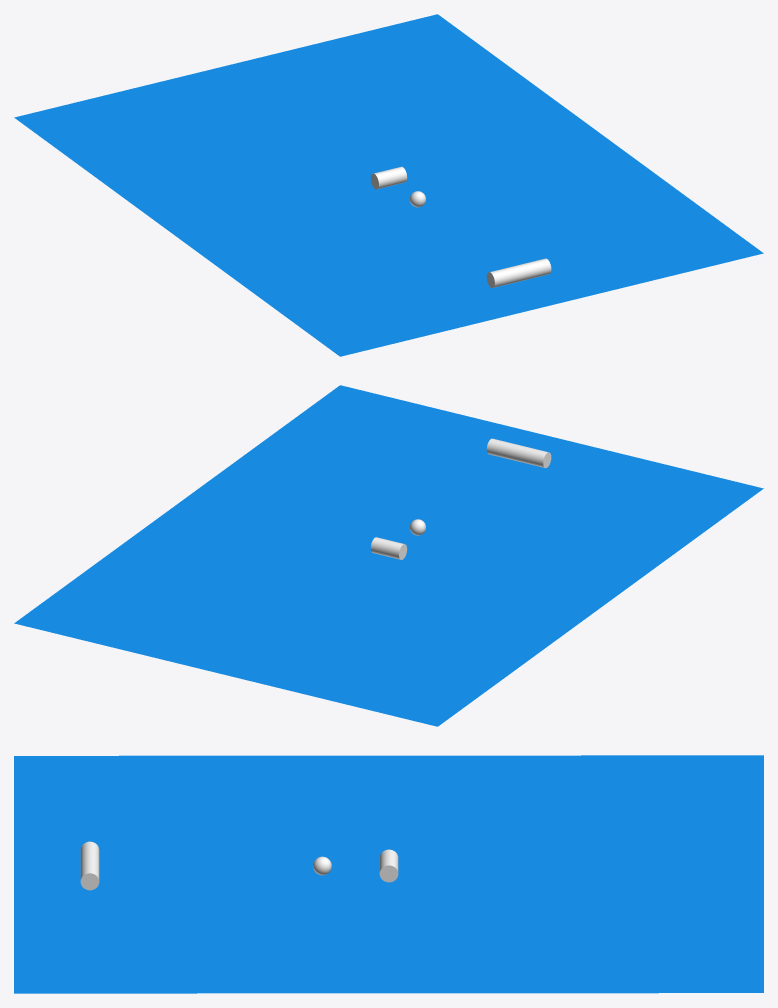
Rendered from asset.gltf.
3 views of the same model, one above another, from view 1: azimuth 30°, elevation 25°; view 2: azimuth 150°, elevation 25°; view 3: azimuth 270°, elevation 25° (orthographic). The views are drawn at different scales.
Visible parts, largest first — view 1: Ground, Cylinder (×2); view 2: Ground, Cylinder (×2); view 3: Ground, Cylinder (×2).
Part boxes in pixels (x1=…): Ground: x1=14, y1=14, x2=763, y2=356; Cylinder (×2): x1=370, y1=166, x2=551, y2=287; Ground: x1=14, y1=385, x2=763, y2=726; Cylinder (×2): x1=370, y1=438, x2=551, y2=559; Ground: x1=14, y1=755, x2=763, y2=993; Cylinder (×2): x1=80, y1=841, x2=398, y2=890.
Size of the model in its own units: 30 by 1.02 by 40.
